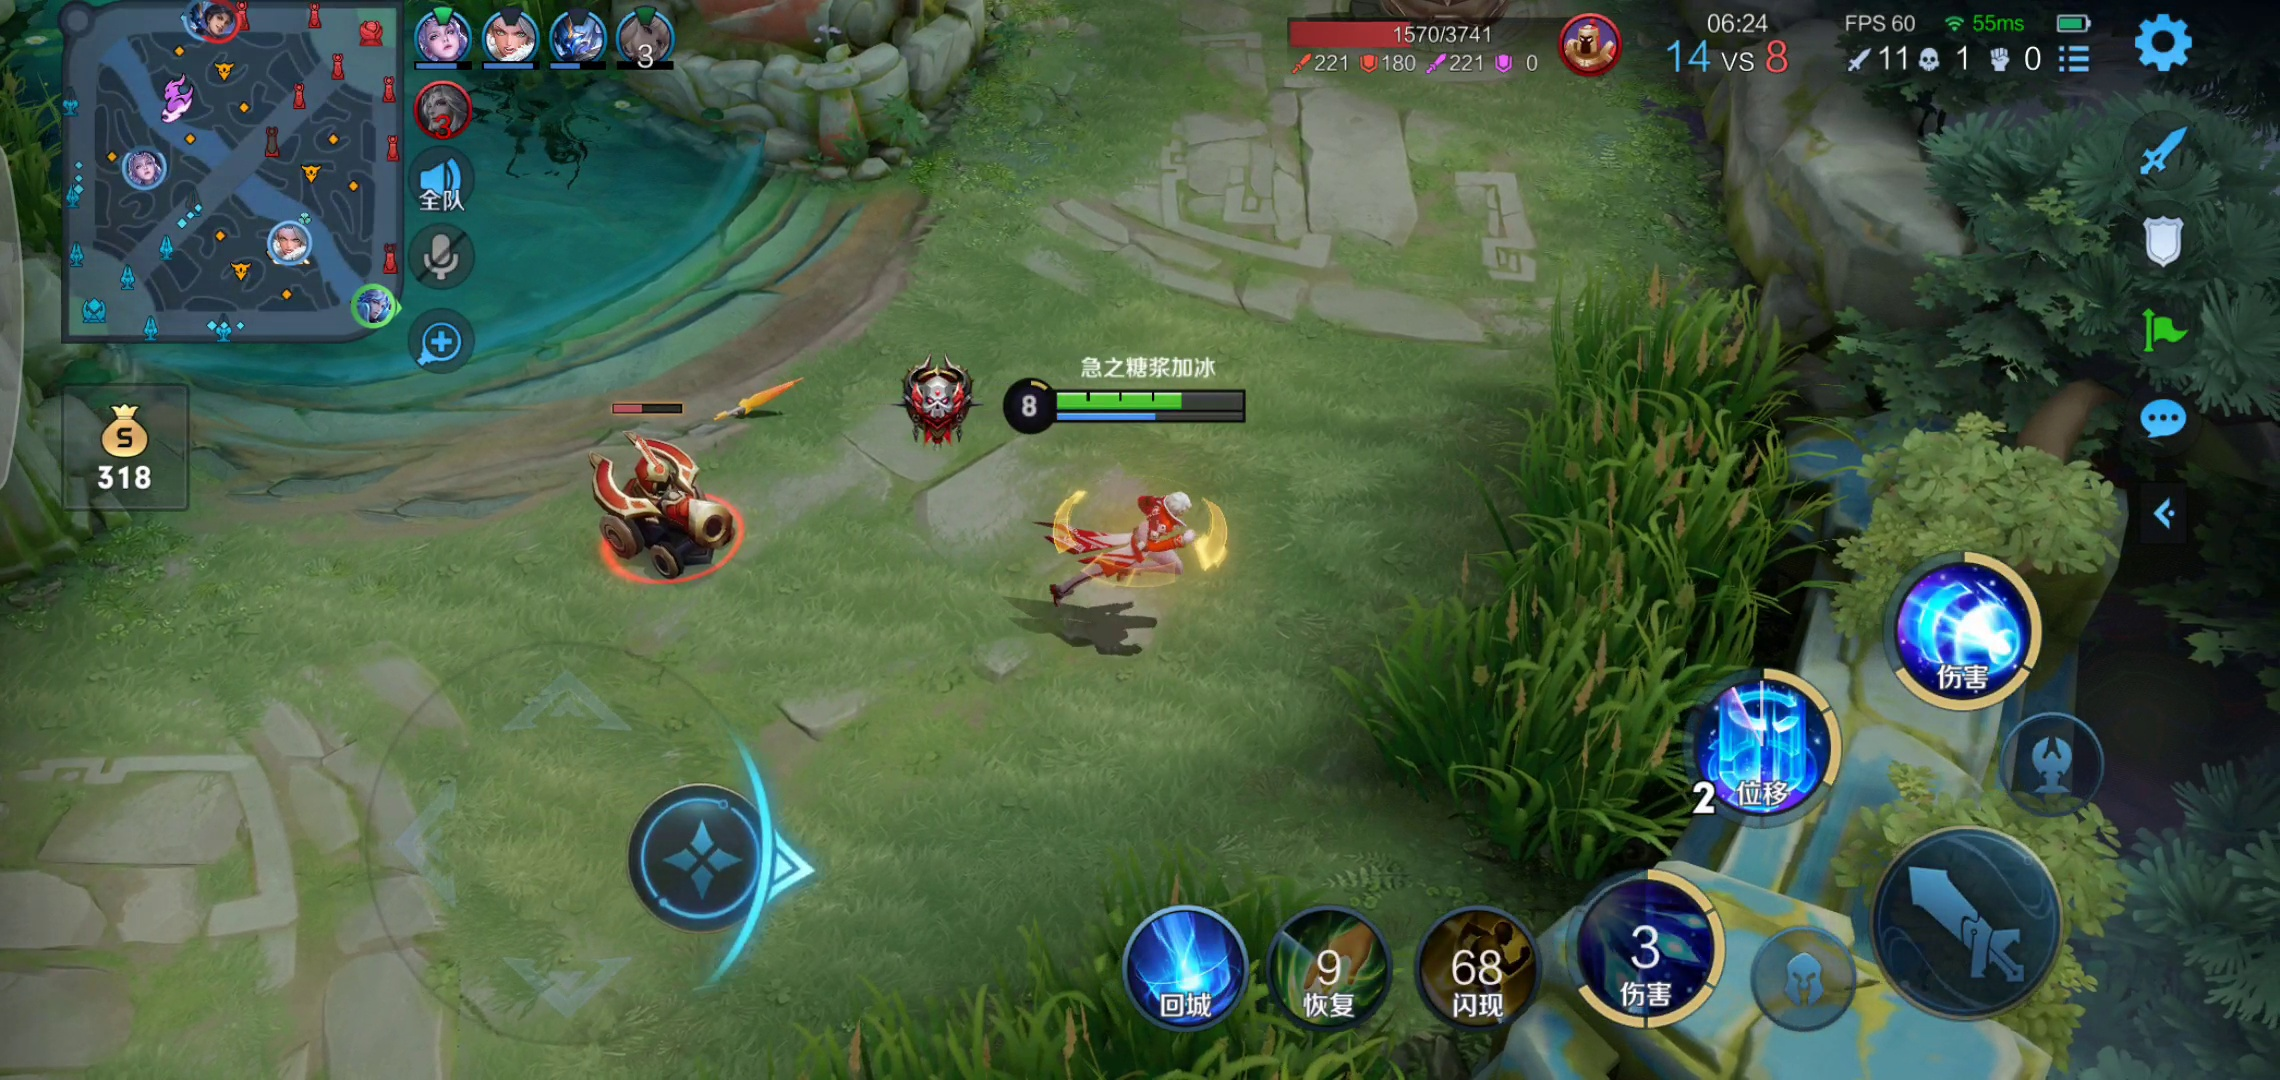grass: (1413, 275, 1778, 863), (803, 901, 1444, 1080)
hero: (1015, 471, 1256, 648)
soldier: (558, 427, 766, 576)
